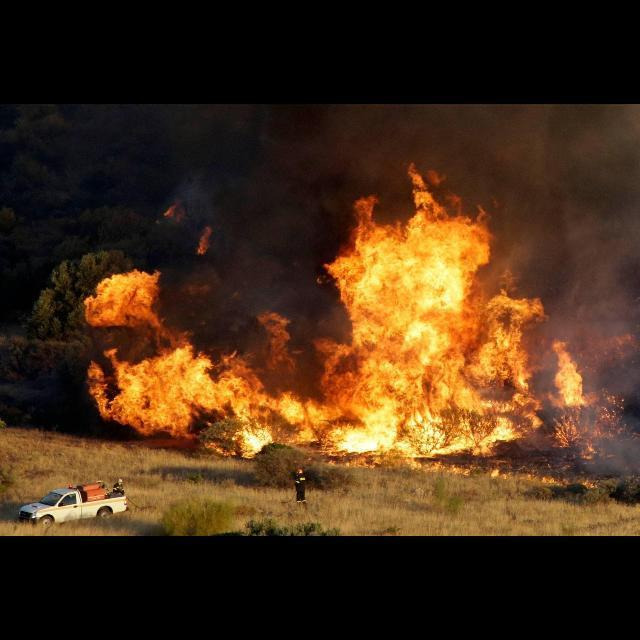Fire: (83, 166, 625, 466)
Smoke: (317, 104, 640, 180)
